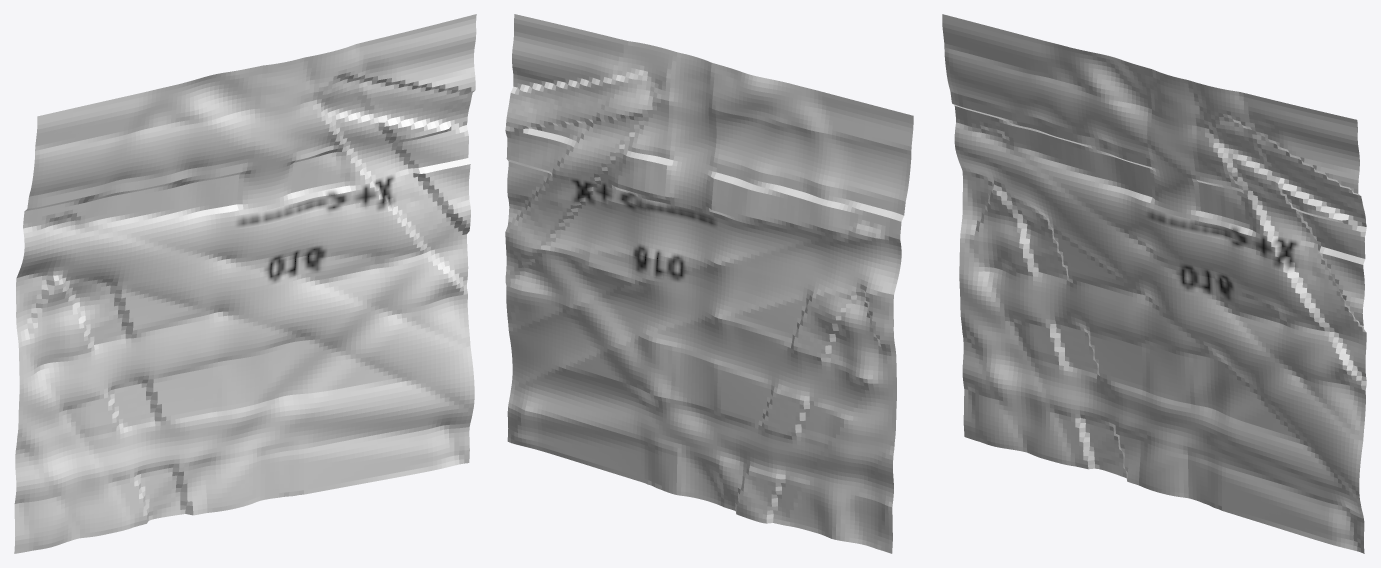
The picture shows the model from 3 angles, left to right: view 1: azimuth 30°, elevation 25°; view 2: azimuth 150°, elevation 25°; view 3: azimuth 330°, elevation 25°; orthographic projection. The views are drawn at different scales.
Visible parts, largest first — view 1: Ground016; view 2: Ground016; view 3: Ground016.
Boxes of the visible parts, <box> form: Ground016: <box>14,14,476,553</box>; Ground016: <box>505,14,913,553</box>; Ground016: <box>942,14,1366,553</box>.
Size of what is drawn, in the model's own units: 100 by 12.44 by 100.
Materials: 1 (1 with a texture image).
